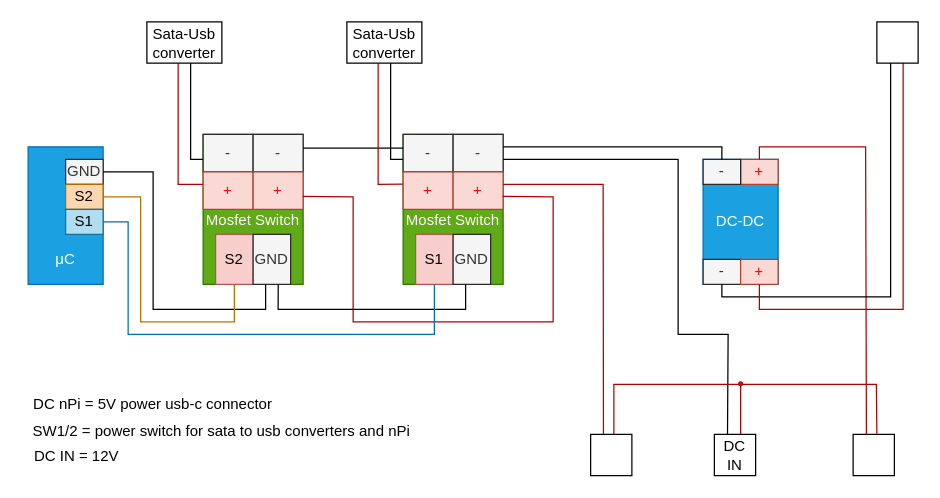
The diagram is 940 pixels wide and 498 high, and some of its shapes have lost their labels. The centre of each missing label's shape, as x and y in pixels:
"DC nPi" belongs at point (897, 42).
"SW1" belongs at point (610, 454).
"SW2" belongs at point (873, 454).
